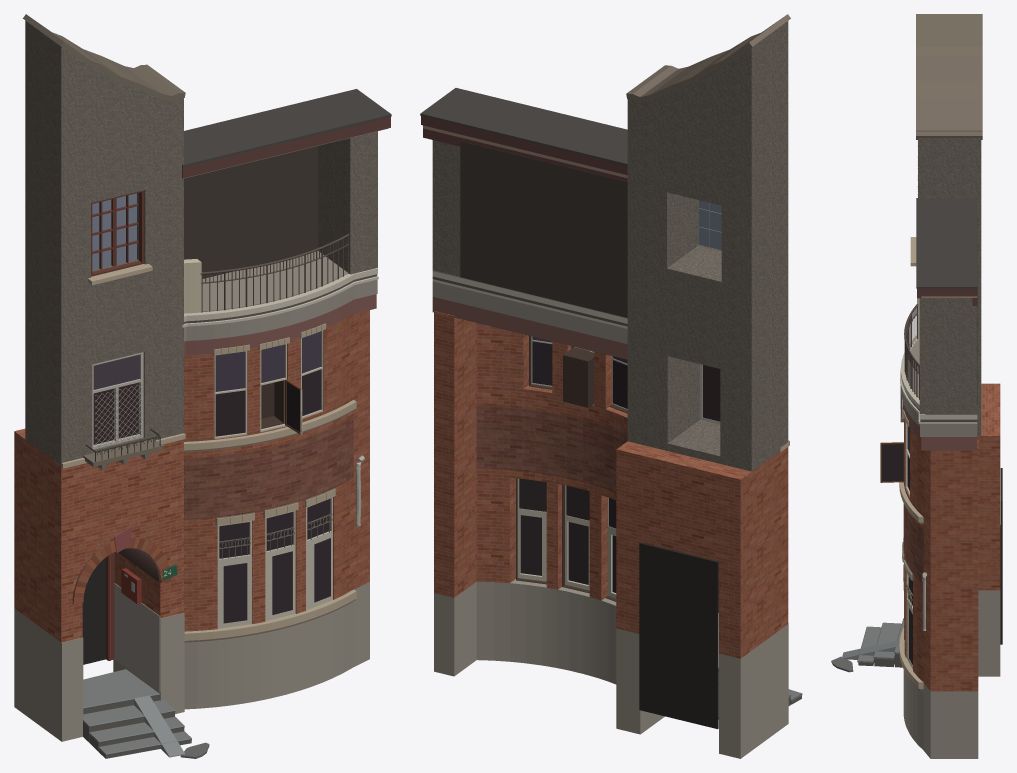
File: hongkou-gongyuanfang-24-yefeng-art-society-front-lod.glb
3 views of the same model, side by side, from view 1: azimuth 30°, elevation 25°; view 2: azimuth 150°, elevation 25°; view 3: azimuth 270°, elevation 25° (orthographic). The views are drawn at different scales.
Visible parts, largest first — view 1: 公园坊24号野风画会旧址南立面; view 2: 公园坊24号野风画会旧址南立面; view 3: 公园坊24号野风画会旧址南立面.
Boxes of the visible parts, <box> form: 公园坊24号野风画会旧址南立面: <box>14,14,391,758</box>; 公园坊24号野风画会旧址南立面: <box>420,14,802,758</box>; 公园坊24号野风画会旧址南立面: <box>831,14,1002,758</box>.
Size of the model in its own units: 6.59 by 13.34 by 3.38.
57 materials, 3 textured.
